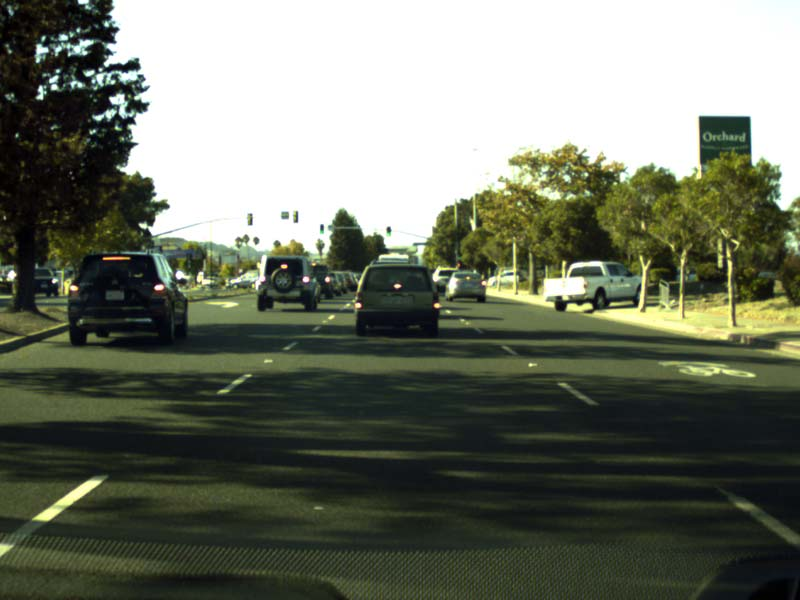Green: (319, 223, 323, 233), (386, 225, 390, 235)
